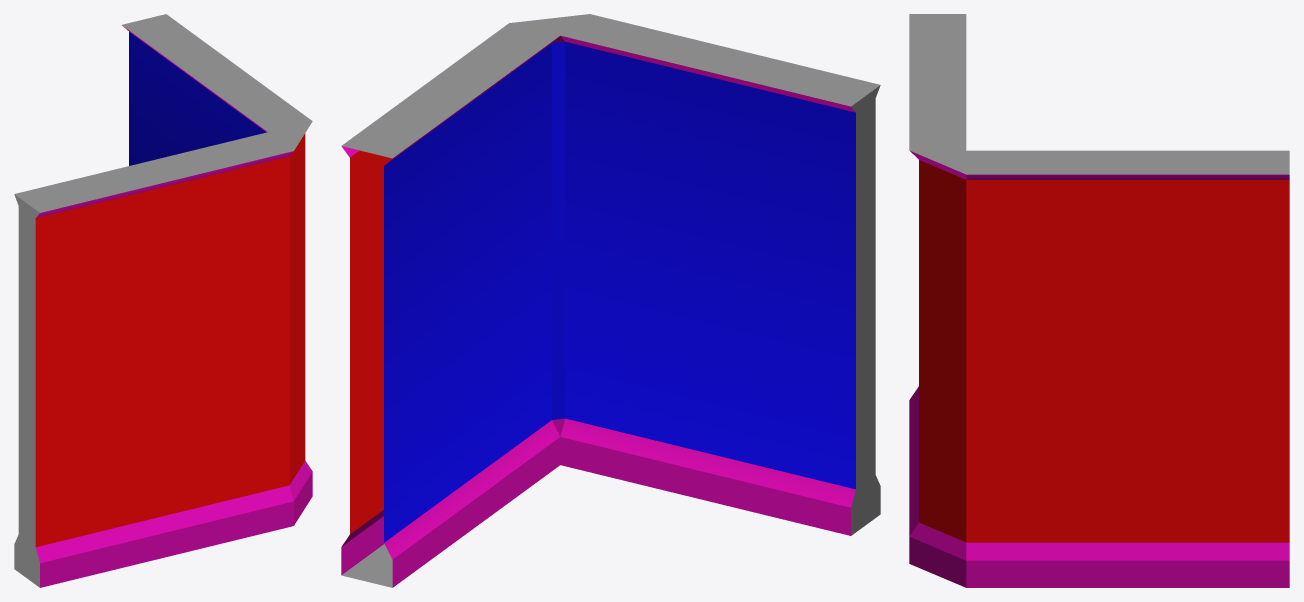
Rendered from InnerWallTest.FBX.
3 renders of one model, left to right at view 1: azimuth 30°, elevation 25°; view 2: azimuth 150°, elevation 25°; view 3: azimuth 270°, elevation 25°, orthographic. The views are drawn at different scales.
Parts seen in each view (by area): view 1: ModularWall010; view 2: ModularWall010; view 3: ModularWall010.
Boxes of the visible parts, x1,y1,x2,y2 form: ModularWall010: (14,14,312,587); ModularWall010: (341,14,880,587); ModularWall010: (909,14,1289,587).
Bounding box in the file's own units: 100 × 120 × 100.
